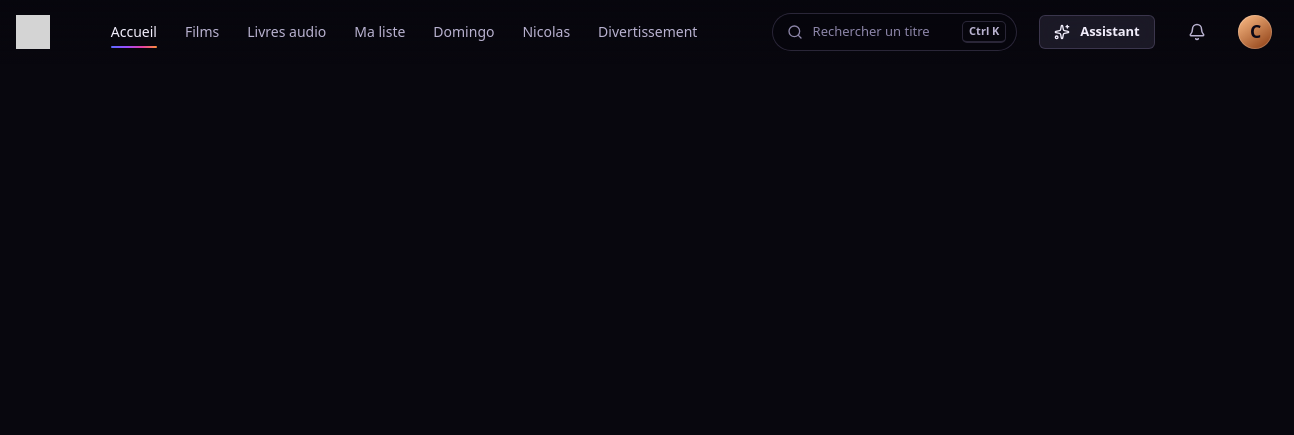
Test: Nav : menu du profil › Échap referme le menu et rend le focus au bouton
Step 1. Click the button named "Compte de Camille" → point(1255, 32), box [1238,14,1272,48]
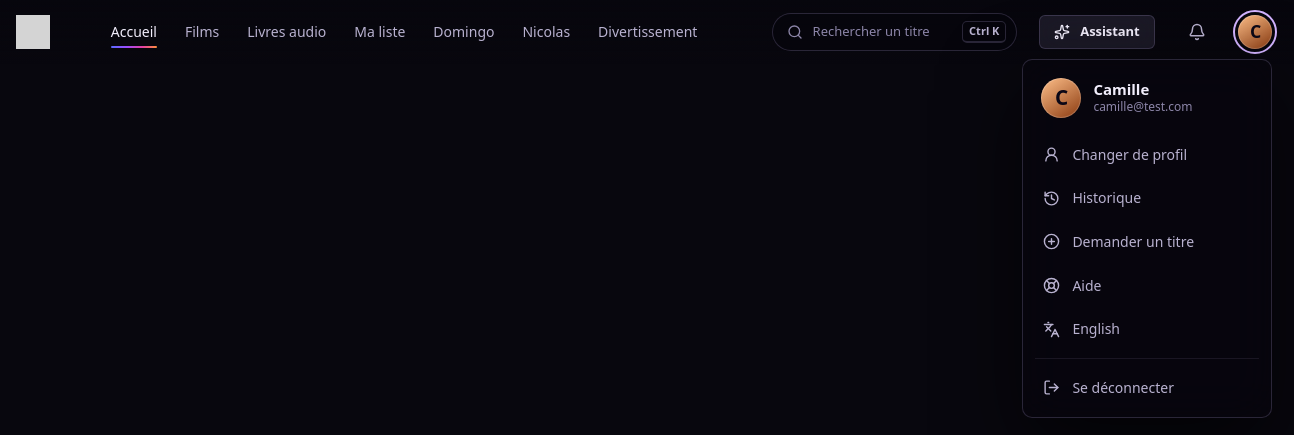
Step 2. Press Arrowdown Escape
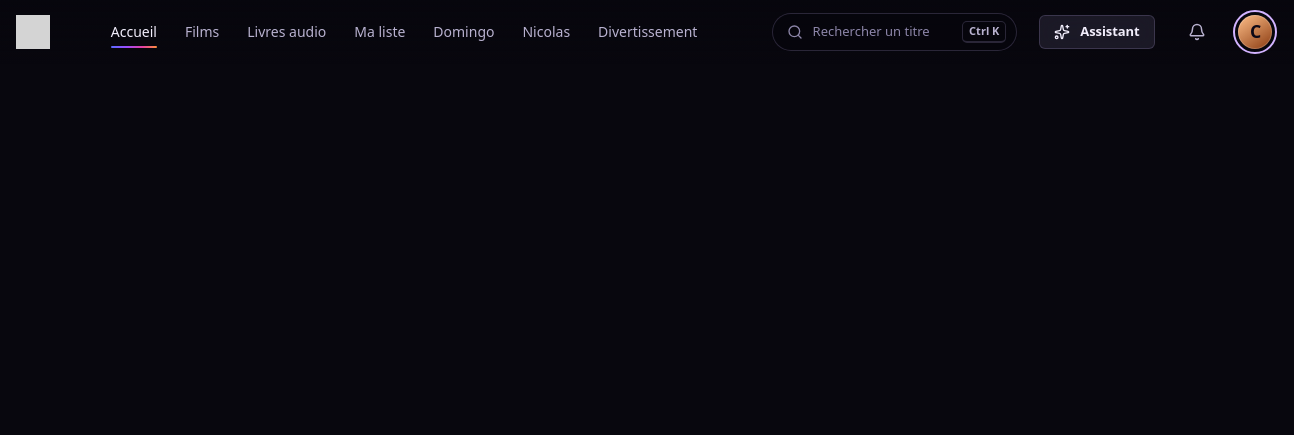
Now the menu is gone
